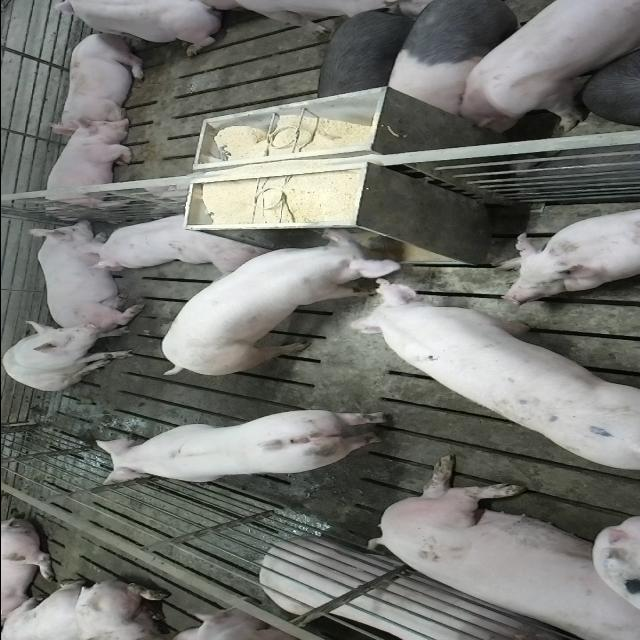Lateral_lying: (362, 453, 636, 636), (258, 537, 584, 640)
Sitting: (2, 321, 136, 391)
Standing: (344, 277, 636, 473), (162, 230, 410, 378), (451, 2, 640, 136), (99, 408, 398, 488), (382, 2, 540, 122), (314, 7, 421, 102)
Sternal_lying: (496, 204, 640, 302), (24, 216, 138, 326), (85, 209, 268, 270), (39, 2, 225, 56), (52, 30, 150, 132), (38, 118, 138, 214)
